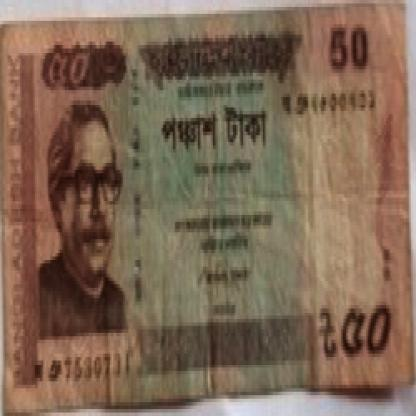Fifty taka: (320, 302, 412, 381), (34, 38, 107, 118)
